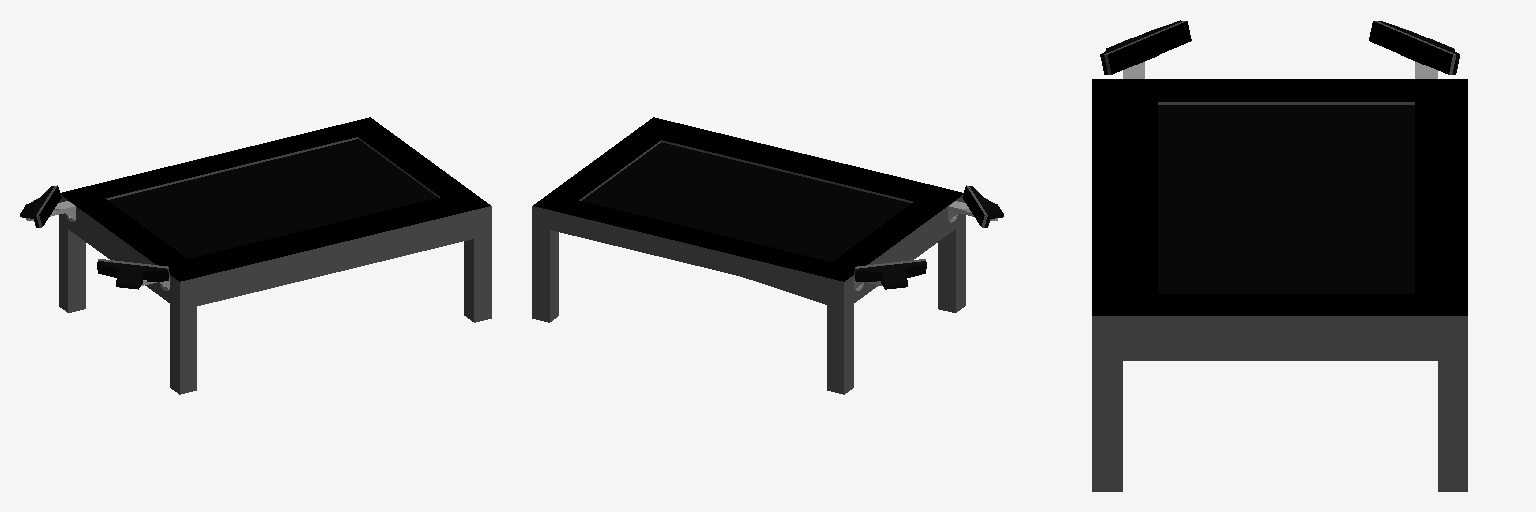
The robot description file, URDF, robot "sandtray":
<robot name="sandtray">
  <link name="sandtray">
    <visual>
        <geometry>
            <mesh filename="package://playground_builder/meshes/sandtray.dae"/>
        </geometry>

    </visual>
  </link>
  <link name="r_camera_link" />
  <link name="l_camera_link" />

    <!-- obtained from Blender: select frame in Blender, open Python console, then:
    
    >>> C.selected_objects[0].matrix_world.to_translation()
    >>> C.selected_objects[0].matrix_world.to_euler()
    -->
  <joint name="r_camera_joint" type="fixed">
    <parent link="sandtray"/>
    <child link="r_camera_link"/>
    <origin xyz="-0.134 -0.005 0.025" rpy="0 -0.292 -0.785" />
  </joint>

  <joint name="l_camera_joint" type="fixed">
    <parent link="sandtray"/>
    <child link="l_camera_link"/>
    <origin xyz="-0.134 -0.351 0.025" rpy="0 -0.292 0.785" />
  </joint>

</robot>

--- What the picture shows (computed from the rendered views, not written in the file) ---
The picture shows the robot from 3 angles, left to right: view 1: azimuth 30°, elevation 25°; view 2: azimuth 150°, elevation 25°; view 3: azimuth 270°, elevation 25°; orthographic projection.
Robot: sandtray — 3 links, 2 joints (2 fixed); root link sandtray; default pose: all joints at 0.
Visible links, largest first — view 1: sandtray; view 2: sandtray; view 3: sandtray.
Boxes of the visible links, x1,y1,x2,y2 form: sandtray: (20, 117, 491, 394); sandtray: (532, 117, 1003, 394); sandtray: (1092, 20, 1467, 491).
Bounding box of the posed robot: 0.866 × 0.496 × 0.2844 m (x, y, z).
1 mesh visuals loaded from 1 distinct referenced files (1 Collada DAE).